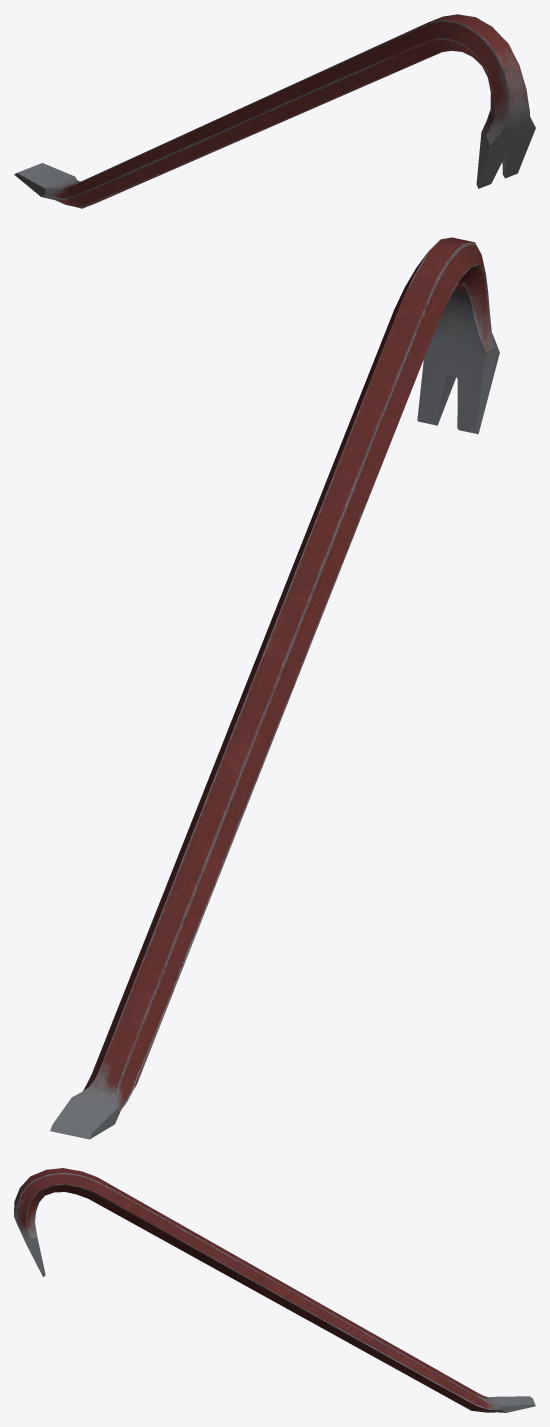
Rendered from sketchfab_scene.glb.
3 renders of one model, top to bottom at view 1: azimuth 30°, elevation 25°; view 2: azimuth 150°, elevation 25°; view 3: azimuth 270°, elevation 25°, orthographic. The views are drawn at different scales.
Parts seen in each view (by area): view 1: crowbar_low; view 2: crowbar_low; view 3: crowbar_low.
Part boxes in pixels (<box>): crowbar_low: <box>14,14,535,208</box>; crowbar_low: <box>50,237,499,1139</box>; crowbar_low: <box>14,1168,535,1412</box>.
Size of the model in its own units: 0.1428 by 0.4264 by 0.7706.
1 material, 1 textured.
